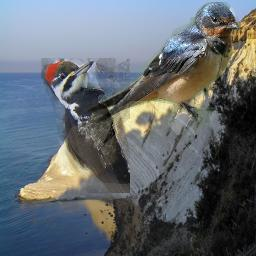Swallow: (75, 2, 241, 142)
Woodpecker: (41, 58, 130, 193)
